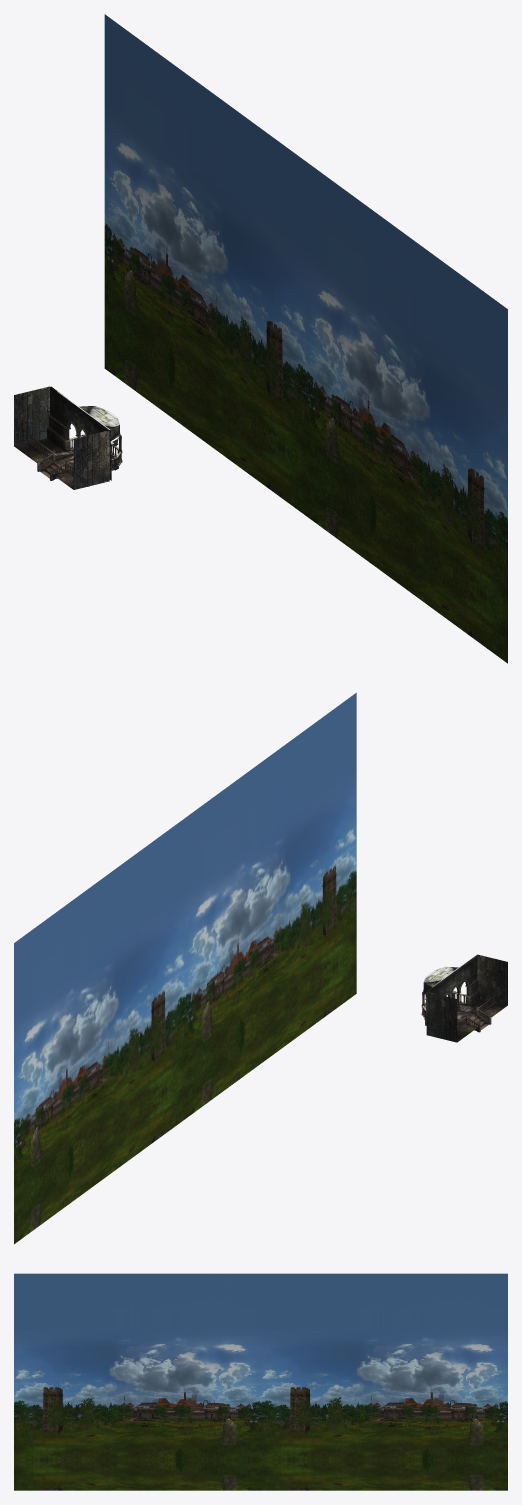
The model's file is loadscene.glb.
The picture shows the model from 3 angles, top to bottom: view 1: azimuth 30°, elevation 25°; view 2: azimuth 150°, elevation 25°; view 3: azimuth 270°, elevation 25°; orthographic projection. The views are drawn at different scales.
Parts seen in each view (by area): view 1: loadscene-col; view 2: loadscene-col; view 3: loadscene-col.
Part boxes in pixels (bbox=[...]): loadscene-col: bbox=[14, 14, 507, 663]; loadscene-col: bbox=[14, 692, 507, 1244]; loadscene-col: bbox=[14, 1273, 507, 1490].
Bounding box in the file's own units: 29.21 × 32.13 × 66.24.
3 materials, 3 textured.
